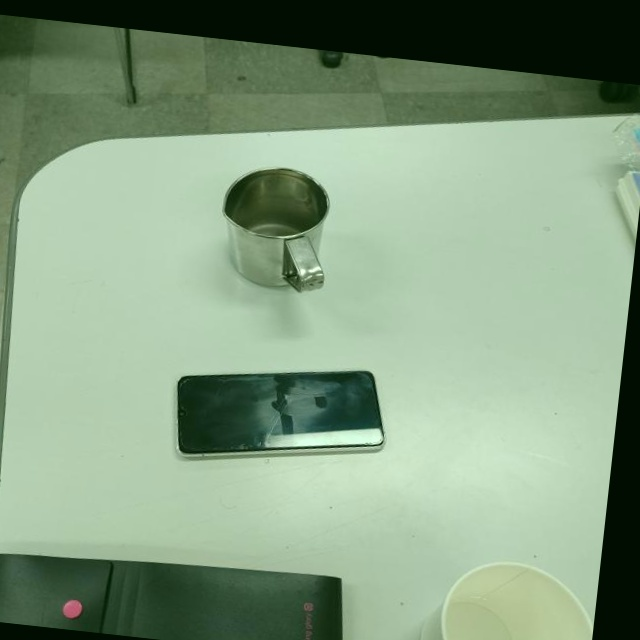cup: (211, 160, 341, 297)
phone: (169, 348, 396, 482)
